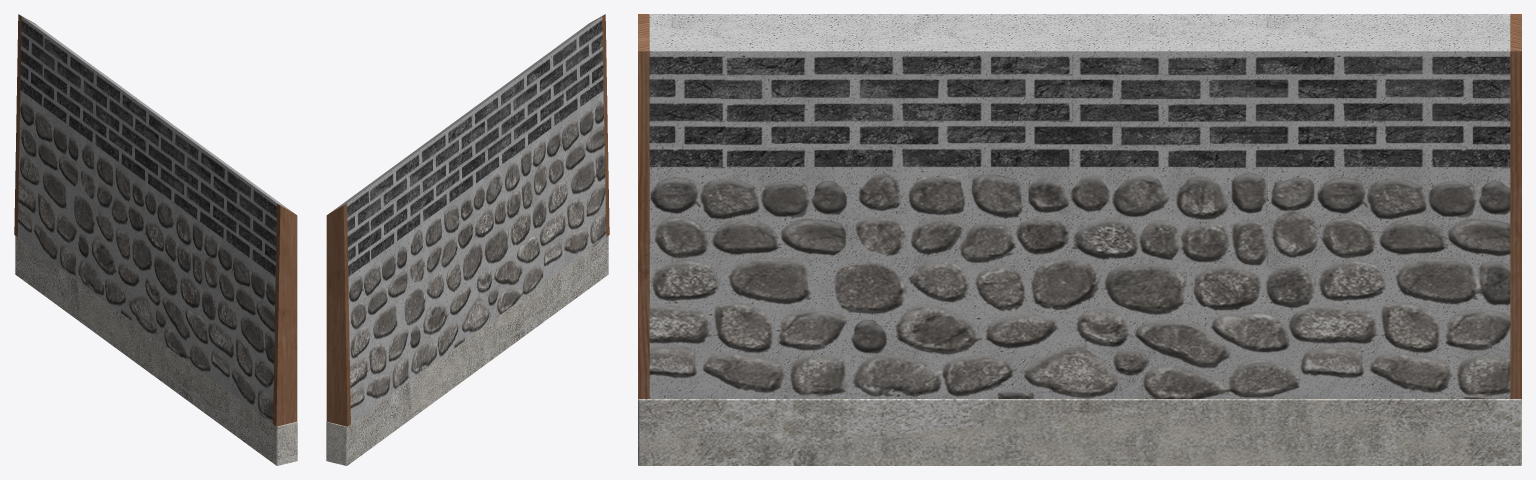
Rendered from SM_Baeryeom_Wall_C5.fbx.
3 renders of one model, left to right at view 1: azimuth 30°, elevation 25°; view 2: azimuth 150°, elevation 25°; view 3: azimuth 270°, elevation 25°, orthographic. The views are drawn at different scales.
Visible parts, largest first — view 1: SM_Baeryeom_Wall_C5; view 2: SM_Baeryeom_Wall_C5; view 3: SM_Baeryeom_Wall_C5.
Boxes of the visible parts, x1,y1,x2,y2 form: SM_Baeryeom_Wall_C5: [14, 14, 297, 465]; SM_Baeryeom_Wall_C5: [326, 14, 609, 465]; SM_Baeryeom_Wall_C5: [638, 14, 1521, 465].
Bounding box in the file's own units: 11 × 126 × 232.
